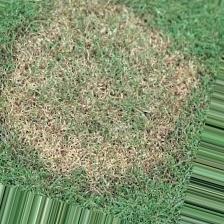patch: (37, 29, 160, 162)
